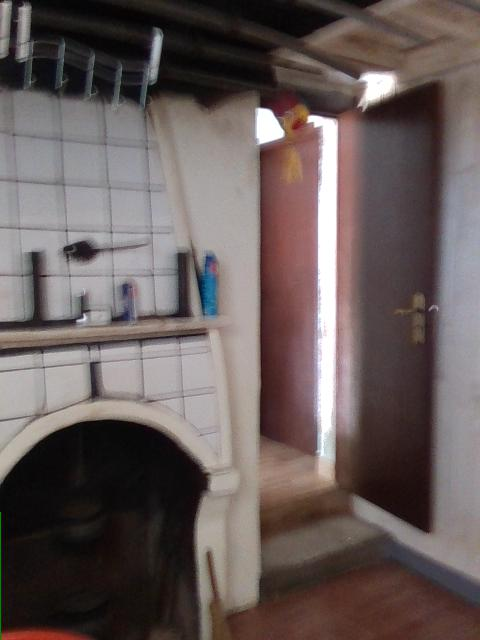door: (332, 78, 442, 531), (260, 139, 318, 450)
